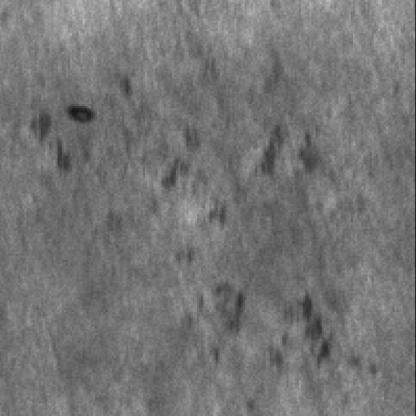rolled-in_scale: (141, 94, 341, 245), (146, 275, 362, 389)
